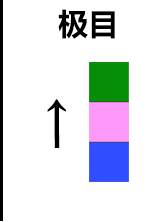arrow: (36, 94, 79, 154)
